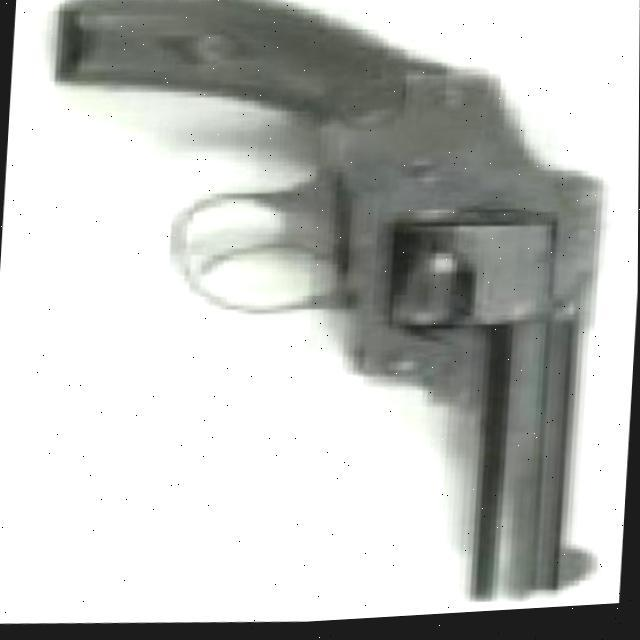gun: (18, 0, 621, 623)
